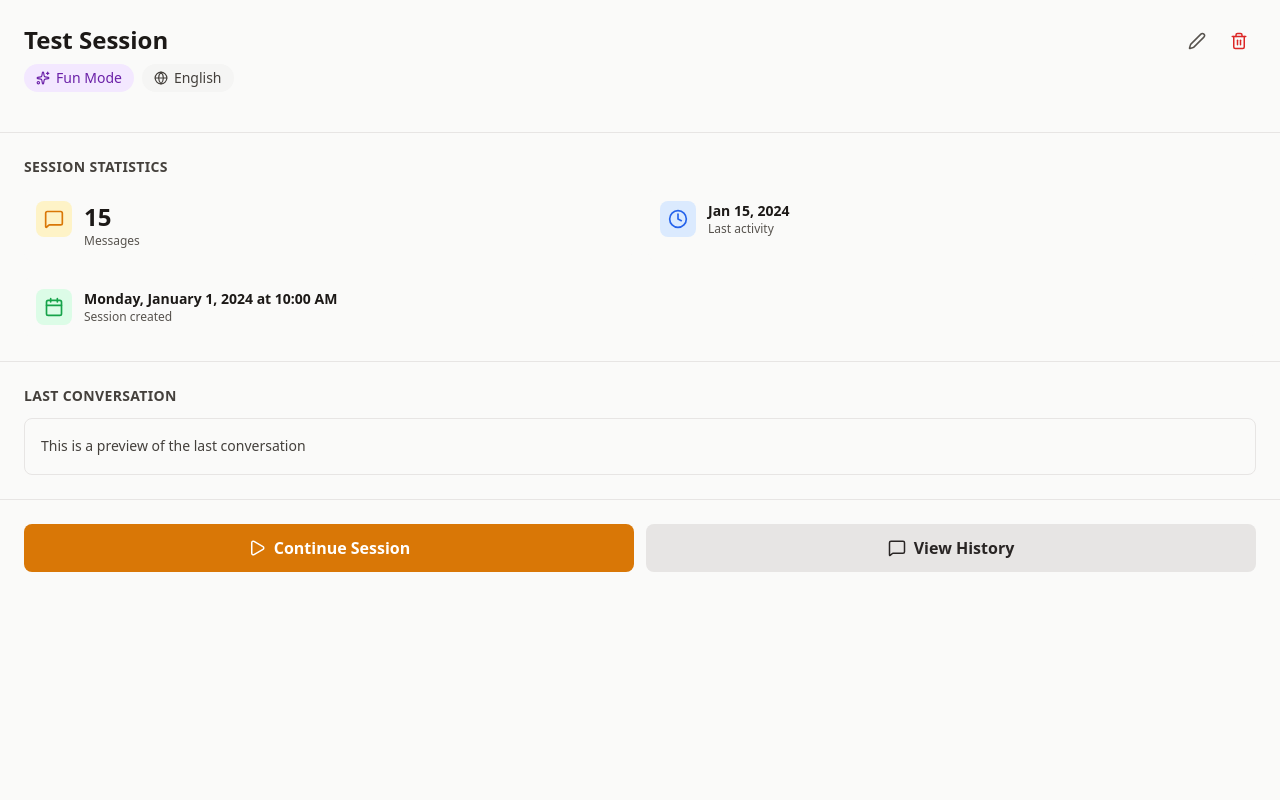
SessionPreview Component › Delete Session Functionality › should open delete confirmation modal when delete button is clicked
Click the button named "Delete session": (1239, 41) left=1222, top=24, right=1256, bottom=58
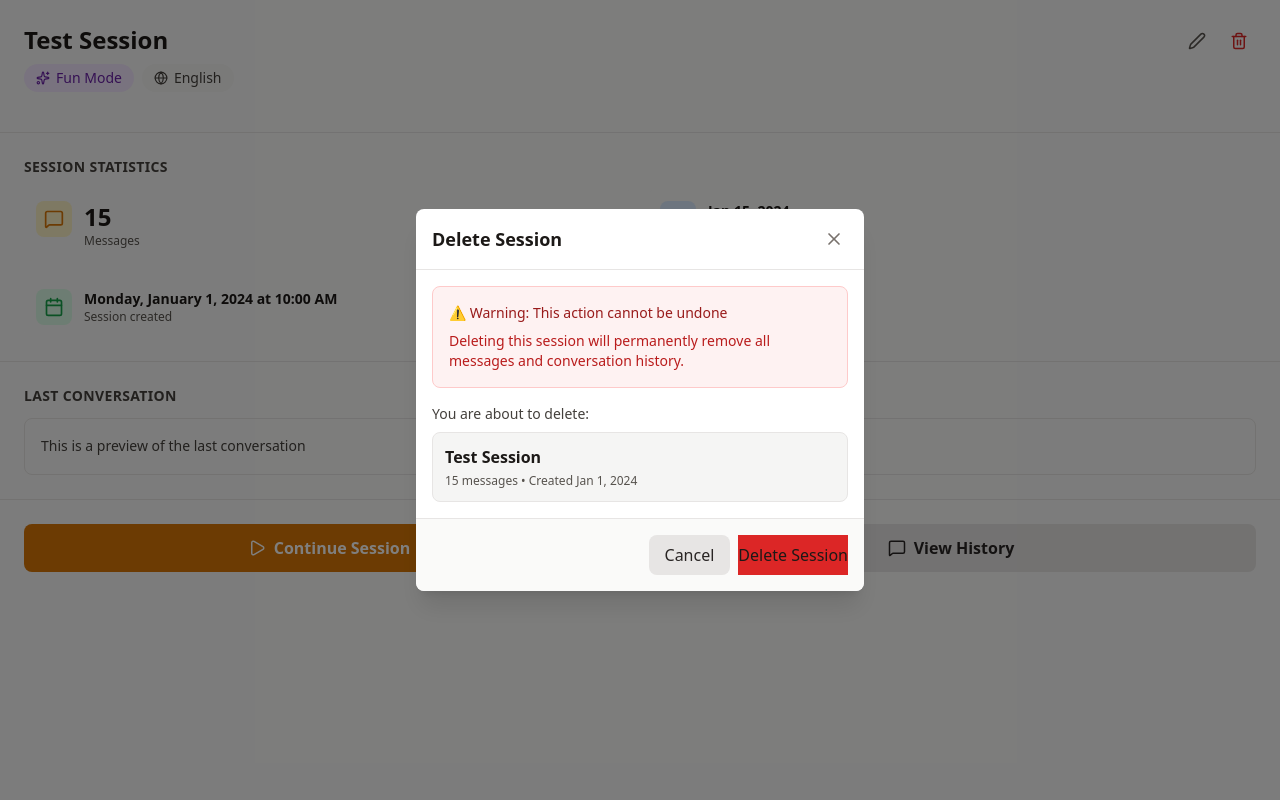
Now the heading "Delete Session" is shown, box left=432, top=225, right=562, bottom=253
